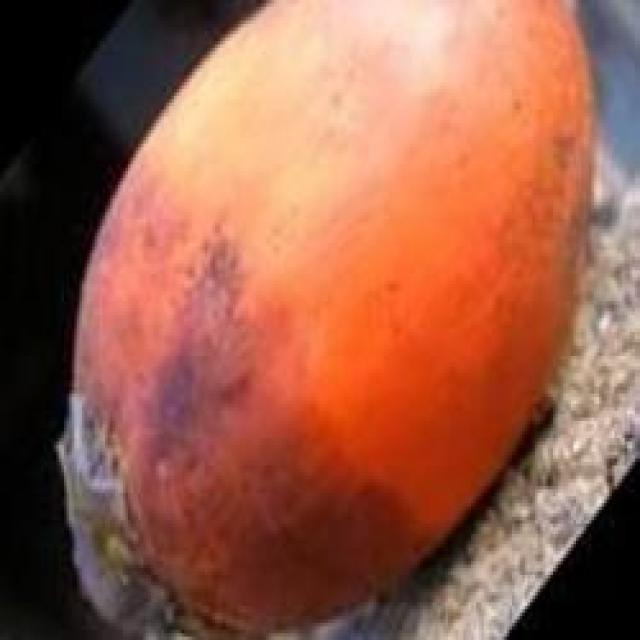good: (56, 0, 599, 637)
